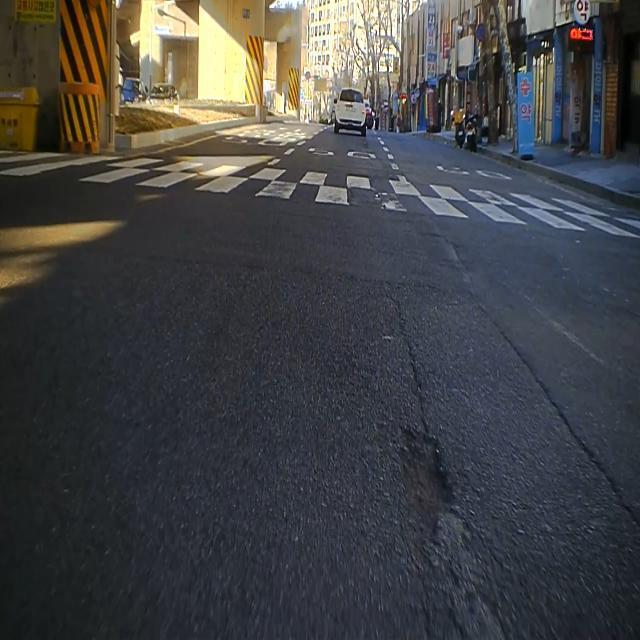pothole: (392, 410, 461, 561)
